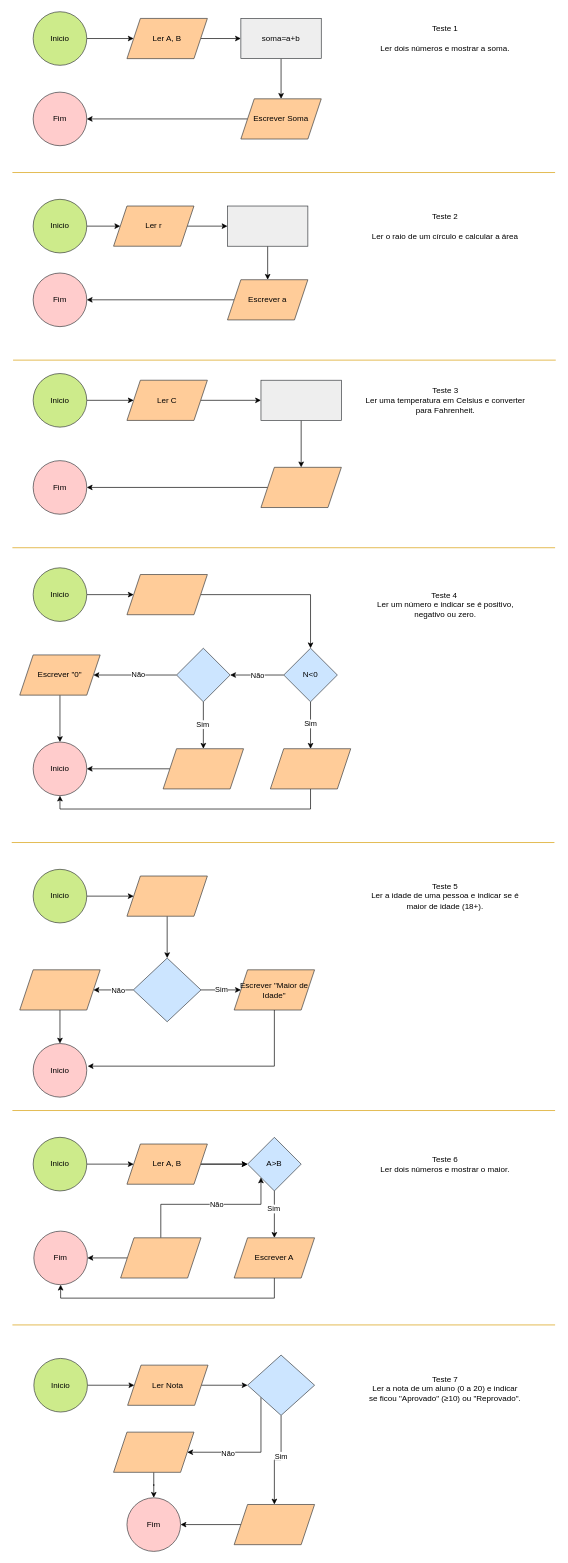
This 568x1563 diagram has some shape labels left out. Here are the shapes that lost their labels. From the top down, the centre of each, then its label:
point (267, 225): a=π × r²
point (300, 400): F = C × 9/5 + 32
point (300, 487): Escrever F
point (166, 594): Ler N
point (203, 675): N>0
point (203, 768): Escrever "Positivo"
point (310, 768): Escrever "Negativo"
point (166, 895): Ler idade
point (59, 989): Escrever "Menor de Idade"
point (167, 989): idade >= 18
point (160, 1257): Escrever B
point (281, 1384): Nota >= 10
point (153, 1451): Escrever "Reprovado"
point (274, 1524): Escrever "Aprovado"
